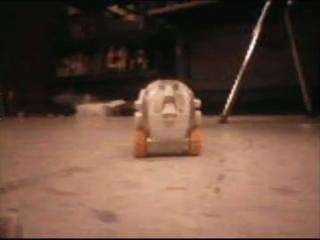cozmo: (131, 78, 203, 158)
